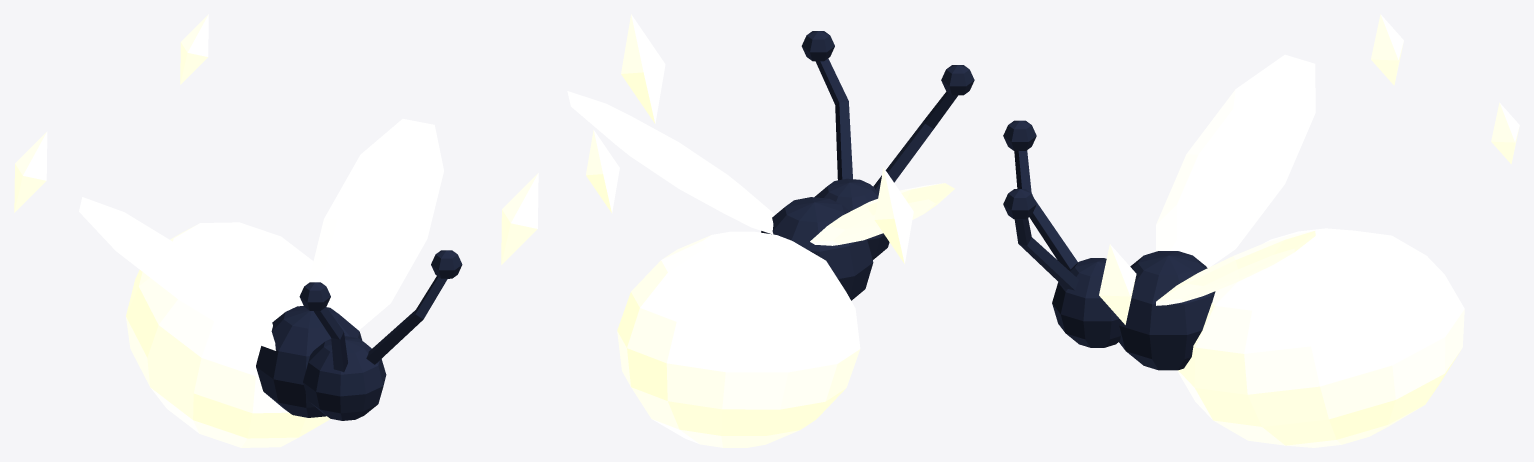
File: FireflyGold.fbx
3 renders of one model, left to right at view 1: azimuth 30°, elevation 25°; view 2: azimuth 150°, elevation 25°; view 3: azimuth 270°, elevation 25°, orthographic. The views are drawn at different scales.
Parts seen in each view (by area): view 1: FireflyGold; view 2: FireflyGold; view 3: FireflyGold.
Boxes of the visible parts, x1,y1,x2,y2 form: FireflyGold: [14, 14, 538, 447]; FireflyGold: [567, 14, 974, 447]; FireflyGold: [1003, 14, 1519, 447].
Size of the model in its own units: 0.3286 by 0.273 by 0.3525.
